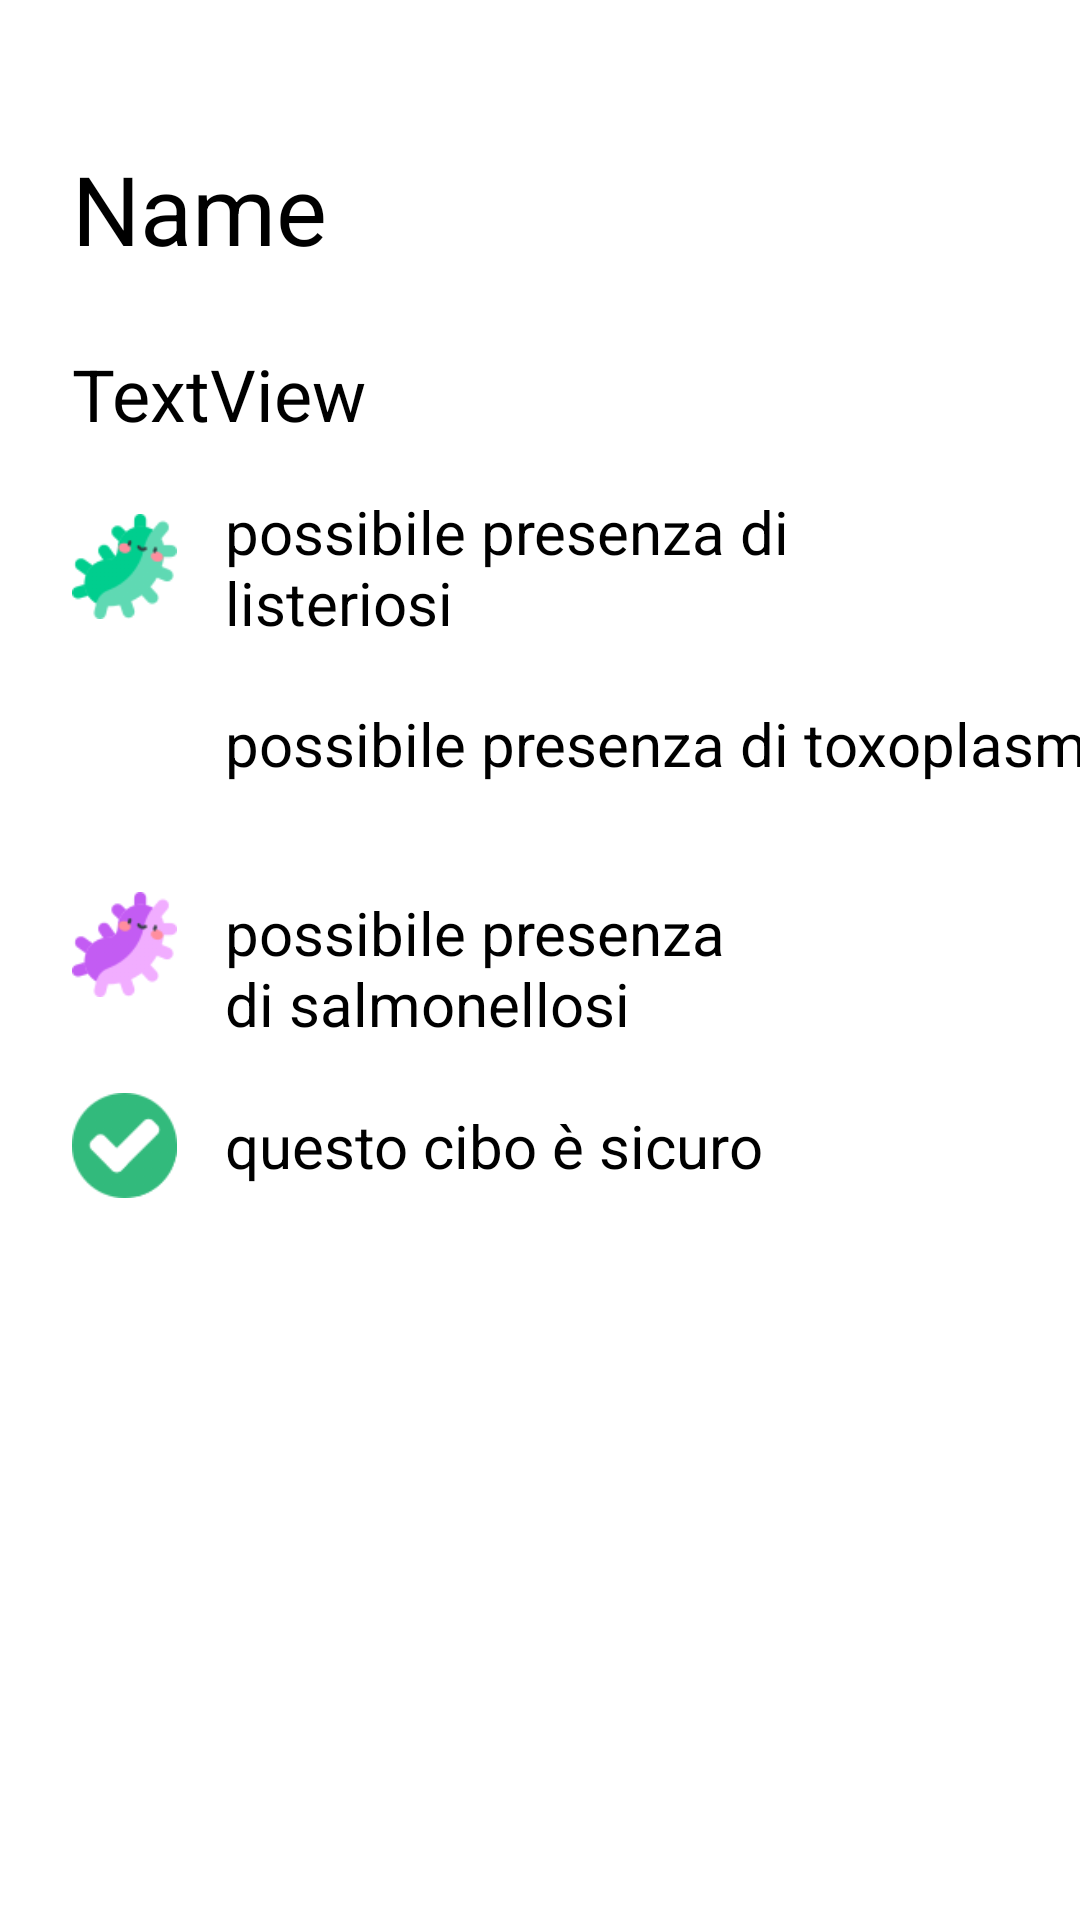

Locate icon controls on the screen. Image size 1080px×1920px, boxes as (x1, y1, x2, y2).
bacteria: (72, 514, 177, 619), (72, 892, 177, 997)
safe: (72, 1093, 177, 1198)
